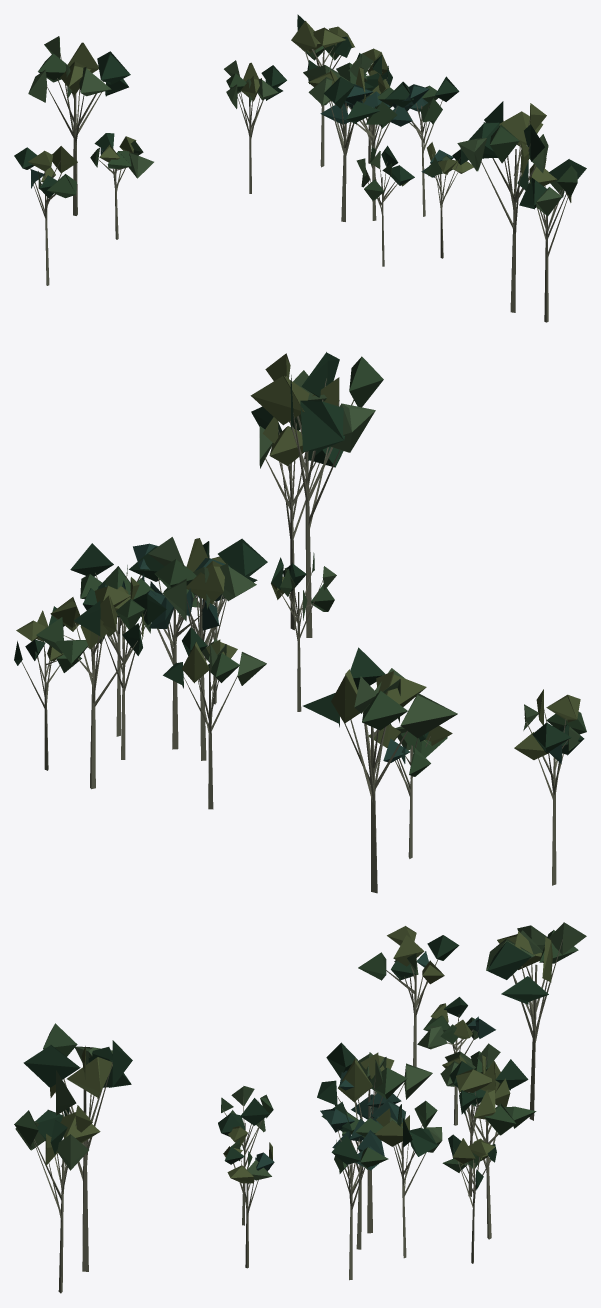
The model's file is forest_20_20.dae.
The picture shows the model from 3 angles, top to bottom: view 1: azimuth 30°, elevation 25°; view 2: azimuth 150°, elevation 25°; view 3: azimuth 270°, elevation 25°; orthographic projection. The views are drawn at different scales.
Visible parts, largest first — view 1: Node; view 2: Node; view 3: Node.
Boxes of the visible parts, x1=… form: Node: x1=14, y1=14, x2=586, y2=322; Node: x1=14, y1=352, x2=586, y2=893; Node: x1=14, y1=922, x2=586, y2=1293.
Bounding box in the file's own units: 10.65 × 11.48 × 5.41.
